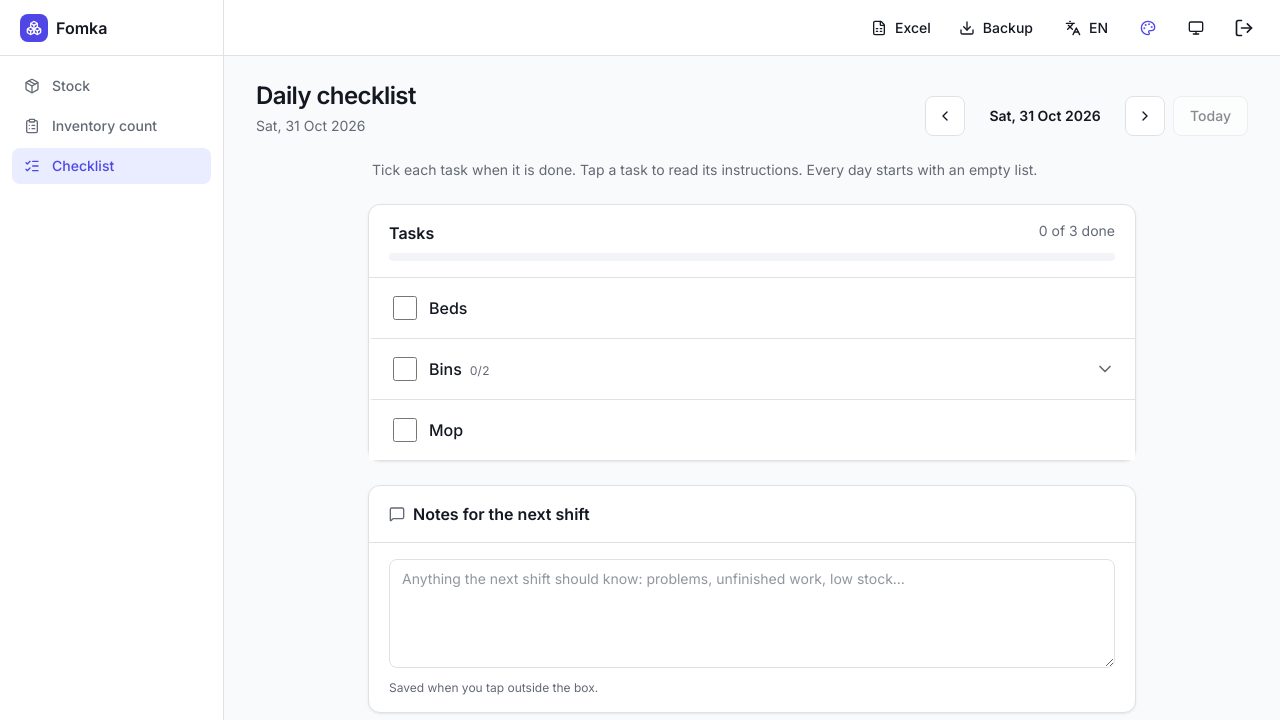
Test: checklist › salutes when the last task of the (only) group is ticked
Click the checkbox labelled "Beds" at (405, 308), box [393,296,417,320]
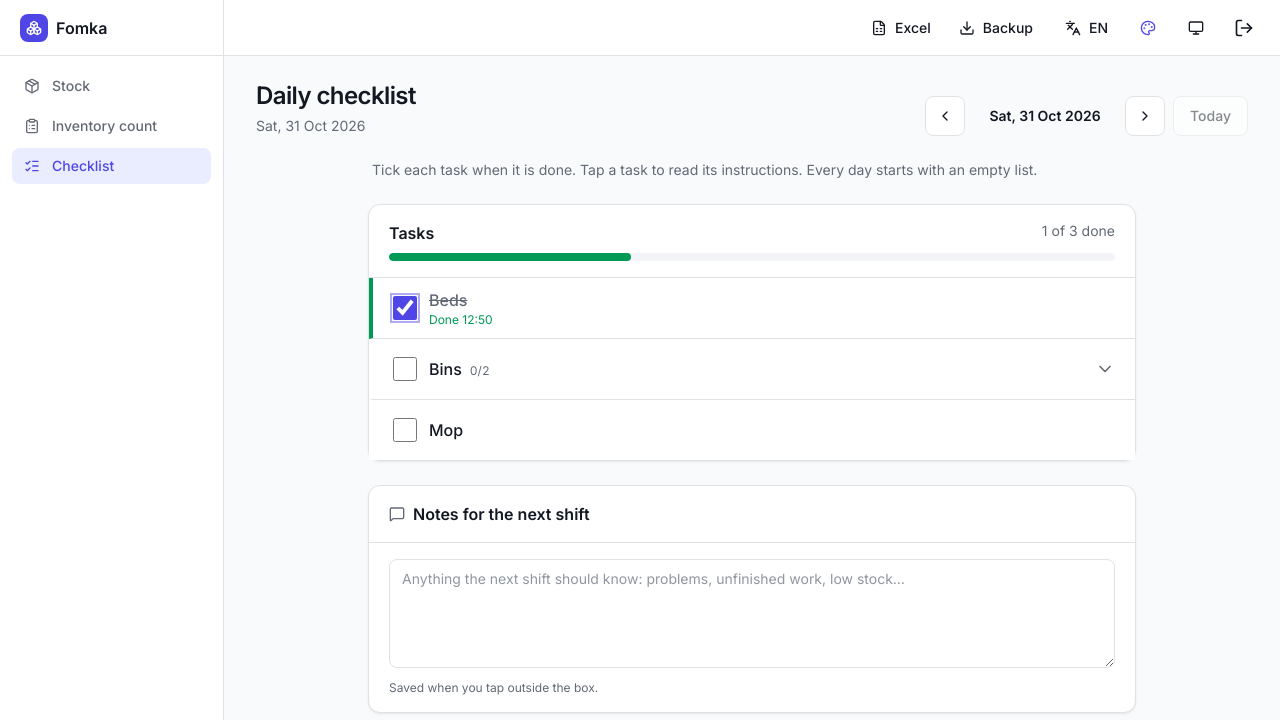
Click the checkbox named "Bins" at (405, 369), box [393,357,417,381]
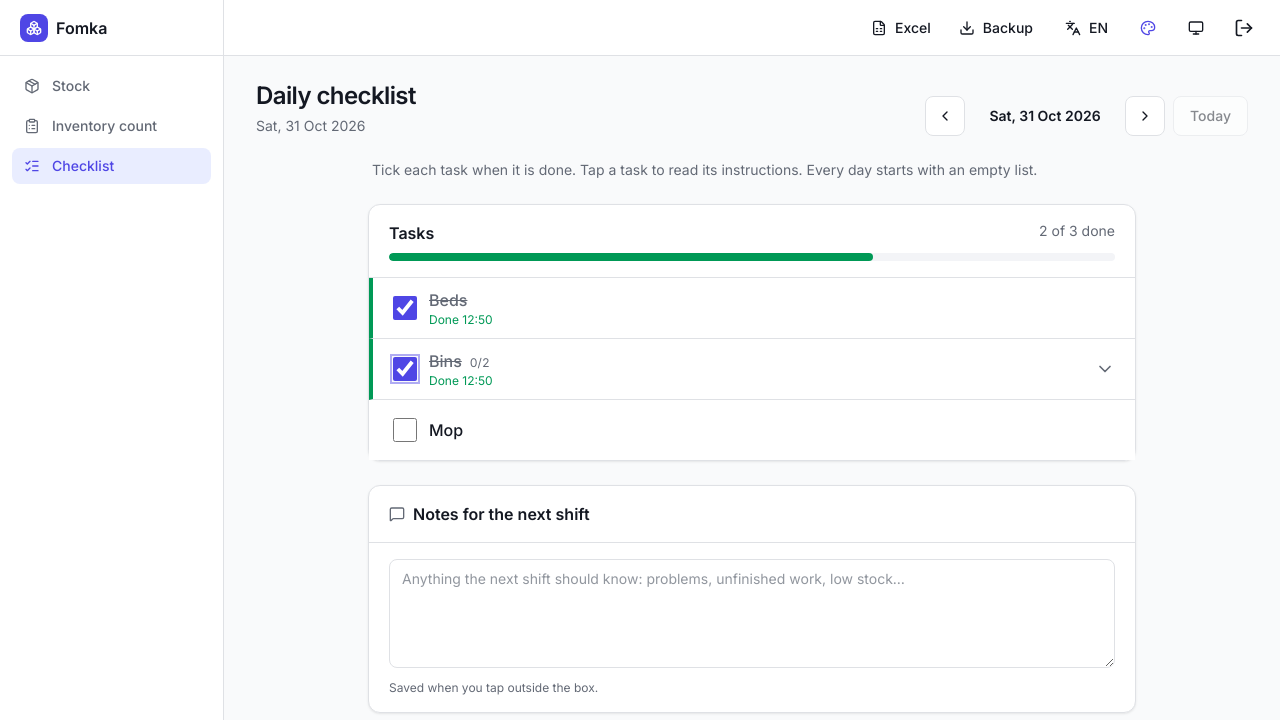
Click the checkbox labelled "Mop" at (405, 430), box [393,418,417,442]
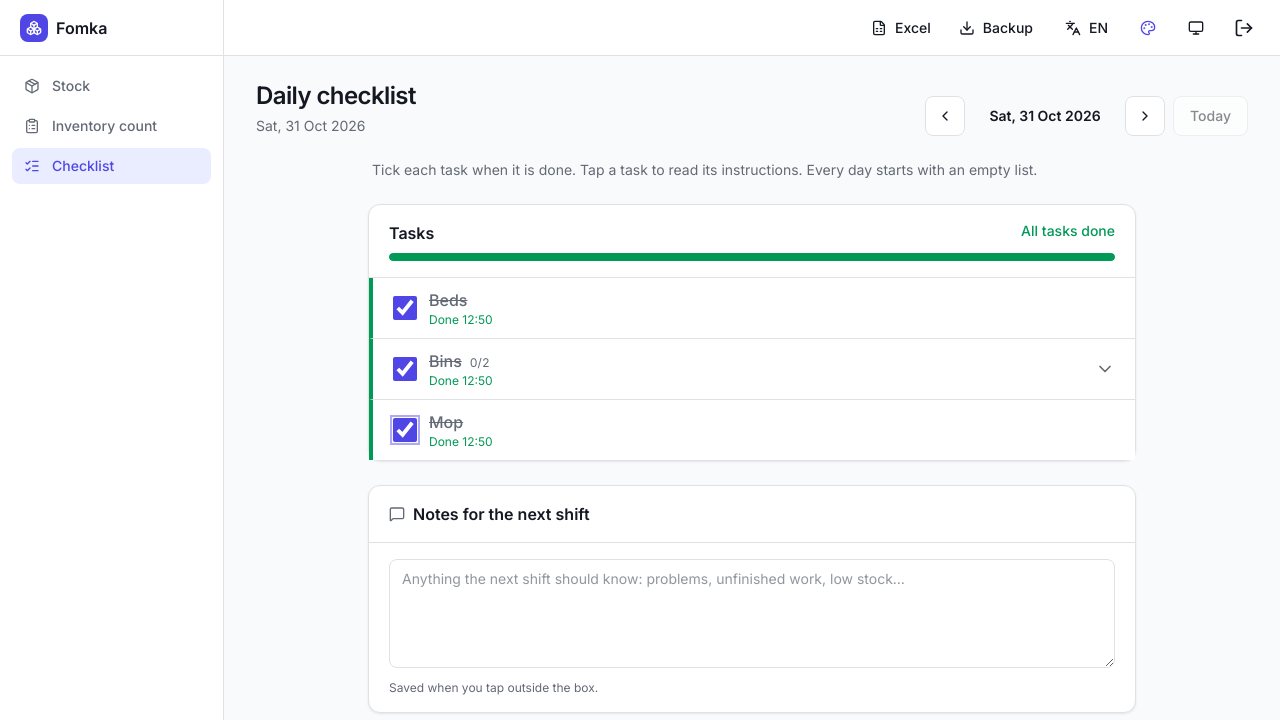
expect the text "All tasks done" is shown: met, box [1021,221,1115,241]
expect the drawing with class "salute" is shown: met
